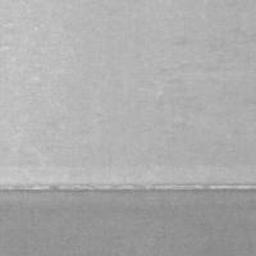Welding line: (0, 184, 256, 192)
